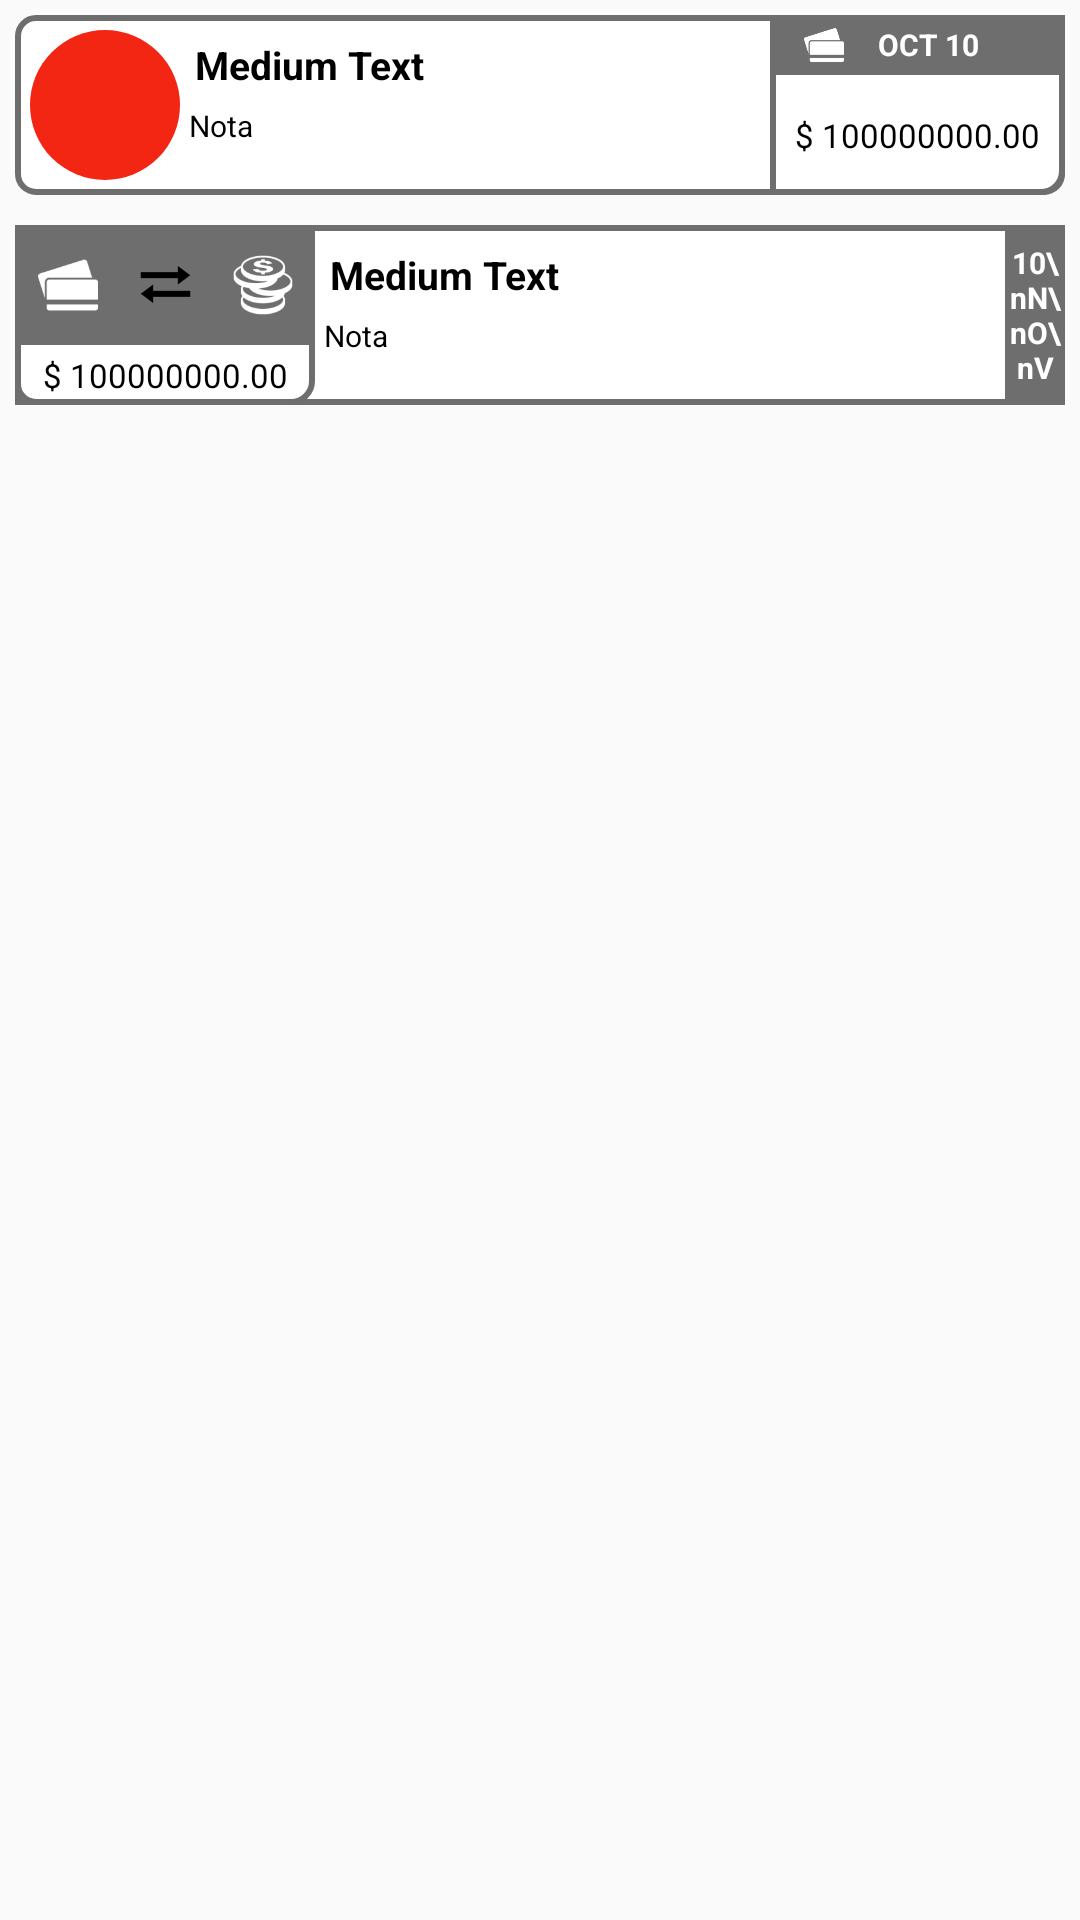

Screen size 1080px×1920px. Icon name, then its box in pixels as (x1, y1, x2, y2):
monedas: (233, 255, 293, 315)
transfer: (141, 266, 190, 303)
